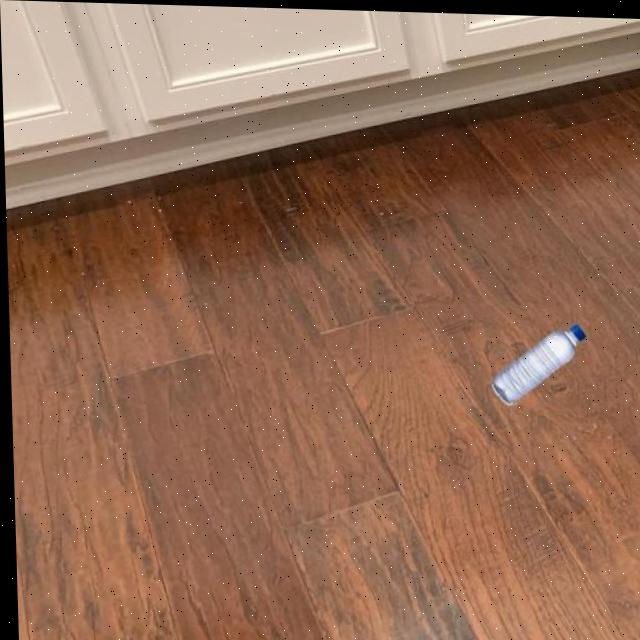bottle: (486, 316, 587, 404)
